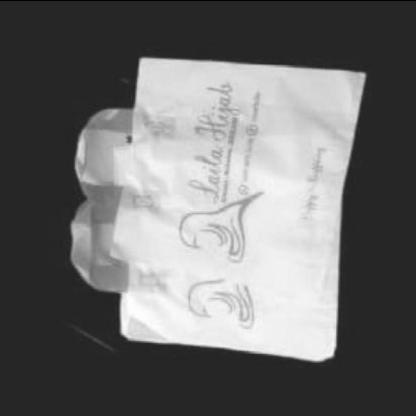objects: (62, 48, 380, 350)
